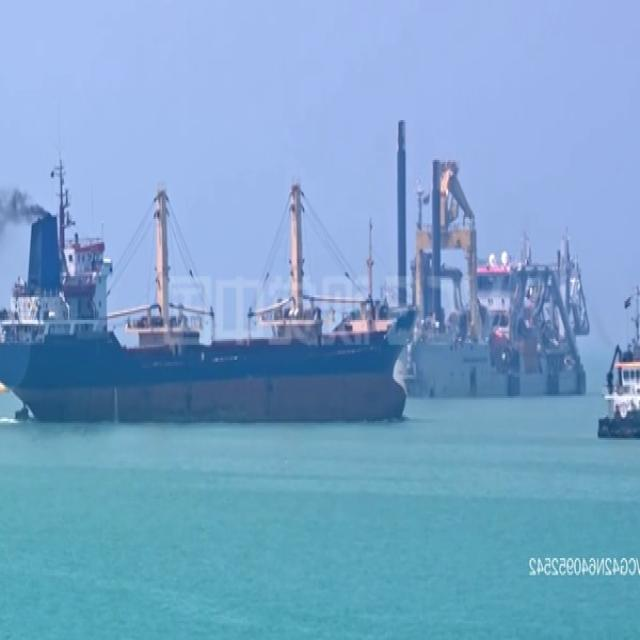cargoship: (0, 175, 412, 421), (376, 164, 599, 395)
passenger ship: (597, 322, 640, 438)
